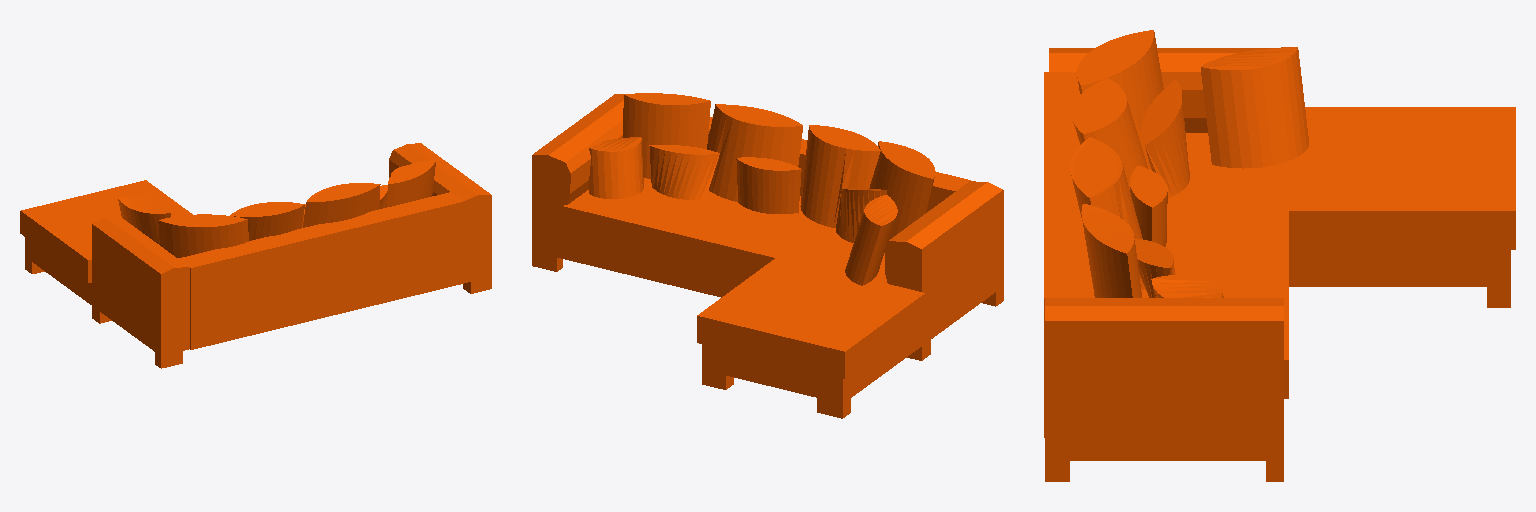
URDF robot description (Couch_3d95d6237ea6db97afa2904116693357):
<?xml version="1.0" ?>
<robot name="Couch_3d95d6237ea6db97afa2904116693357">
   <material name="obj_color">
      <color rgba="1.0 0.423529411765 0.0392156862745 1.0"/>
   </material>
   <link name="top">
      <inertial>
         <origin rpy="0.0002640334219803802 0.0005983605013765319 0.0007562884282106546" xyz="-0.001306172195269386 0.009564248127416252 -0.005846082896658132"/>
         <mass value="0.3989771071313662"/>
         <inertia ixx="0.0002856320010423687" ixy="8.200112255364058e-05" ixz="-6.128767541096806e-06" iyy="0.0005796140014687434" iyz="2.228530451587715e-05" izz="0.0007534363490564544"/>
      </inertial>
      <visual>
         <origin rpy="0 0 0" xyz="0 0 0"/>
         <geometry>
            <mesh filename="top_watertight_tiny.stl" scale="1 1 1"/>
         </geometry>
         <material name="obj_color"/>
      </visual>
      <collision>
         <origin rpy="0 0 0" xyz="0 0 0"/>
         <geometry>
            <mesh filename="top_watertight_tiny.obj" scale="1 1 1"/>
         </geometry>
      </collision>
   </link>
   <link name="bottom">
      <inertial>
         <origin rpy="1.633333333199431e-08 1.633333333199431e-08 1.633333333362855e-08" xyz="0.3464080000000008 0.3464080000000008 0.3464080000000008"/>
         <mass value="0.0009800000000000017"/>
         <inertia ixx="1.633333333253906e-08" ixy="5.447480642029219e-19" ixz="5.447480642029219e-19" iyy="1.633333333253906e-08" iyz="5.447480642029219e-19" izz="1.633333333253906e-08"/>
      </inertial>
      <visual>
         <origin rpy="0 0 0" xyz="0 0 0"/>
         <geometry>
            <mesh filename="bottom_watertight_tiny.stl" scale="1 1 1"/>
         </geometry>
         <material name="obj_color"/>
      </visual>
   </link>
   <joint name="rotation" type="revolute">
      <origin xyz="0 0 0"/>
      <axis xyz="0 0 -1"/>
      <parent link="bottom"/>
      <child link="top"/>
      <dynamics damping="1.0" friction="1.0"/>
      <limit effort="0.1" velocity="0.1" lower="0" upper="0.001"/>
   </joint>
</robot>

--- Facts derived from the render (not from the file) ---
The picture shows the robot from 3 angles, left to right: view 1: azimuth 30°, elevation 25°; view 2: azimuth 150°, elevation 25°; view 3: azimuth 270°, elevation 25°; orthographic projection.
Robot: Couch_3d95d6237ea6db97afa2904116693357 — 2 links, 1 joints (1 revolute); root link bottom; default pose: all joints at 0.
Visible links, largest first — view 1: top; view 2: top; view 3: top.
Link boxes in pixels (<box>): top: <box>20,143,491,368</box>; top: <box>532,93,1003,418</box>; top: <box>1044,30,1515,481</box>.
Bounding box of the posed robot: 0.1321 × 0.0952 × 0.0453 m (x, y, z).
Meshes: 2 distinct files referenced, 1 mesh visuals loaded (1 binary STL); not drawn: 1 (reference not matched to a file when rendering).
